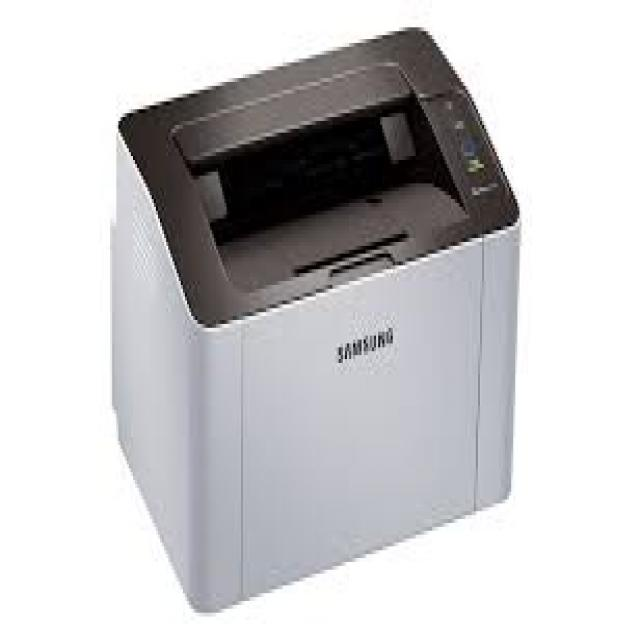printer: (99, 19, 524, 615)
